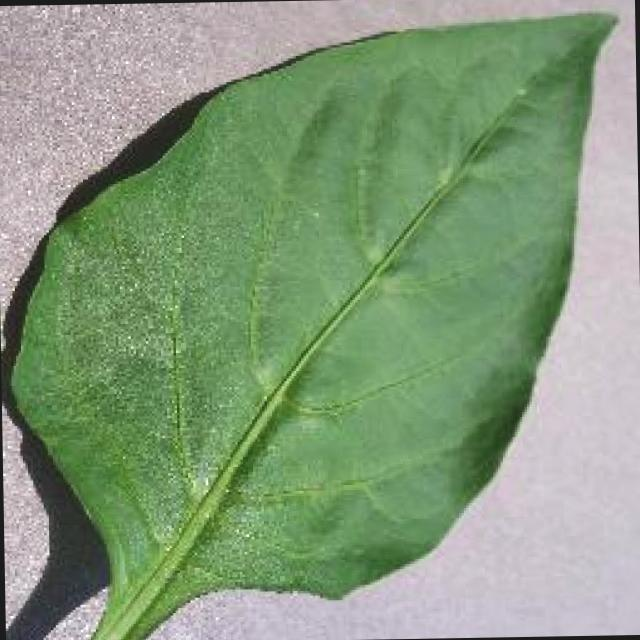Leaf: (197, 158, 568, 573), (412, 18, 594, 114)
